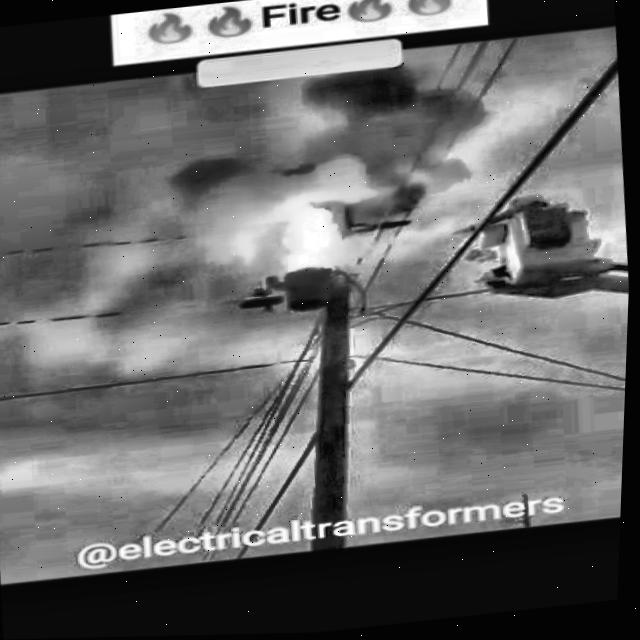Fire: (264, 195, 355, 282)
